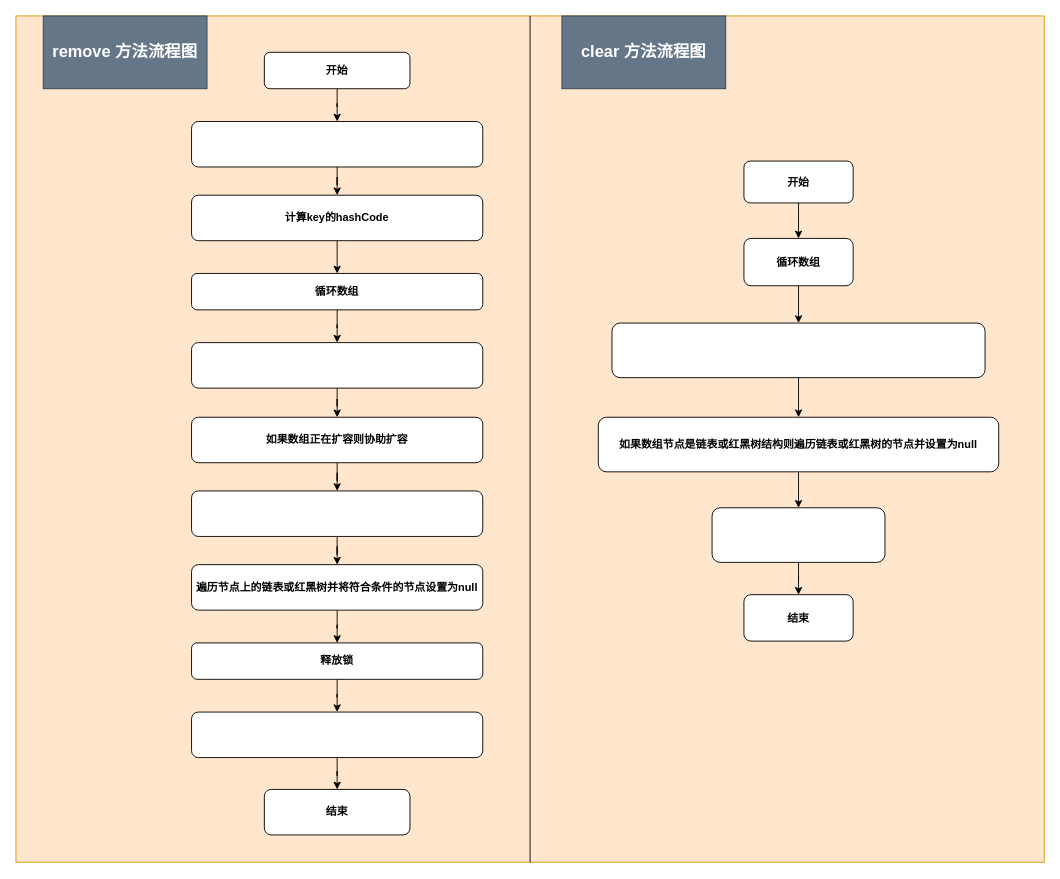
Some shapes in this 1060 by 879 pixel diagram are drawn without their labels. Each missing label, with the centre of its shape:
"使用 synchronized 关键字加锁" goes at [337,513].
"如果数组未初始化或数组不存在key跳出循环返回null" goes at [337,365].
"如果数组正在扩容则协助扩容，扩容结束后再重新循环数组" goes at [798,350].
"数组节点数量减 1" goes at [337,734].
"更新数组节点数量，重置为 0" goes at [798,534].
"调用replaceNode方法" goes at [337,144].
